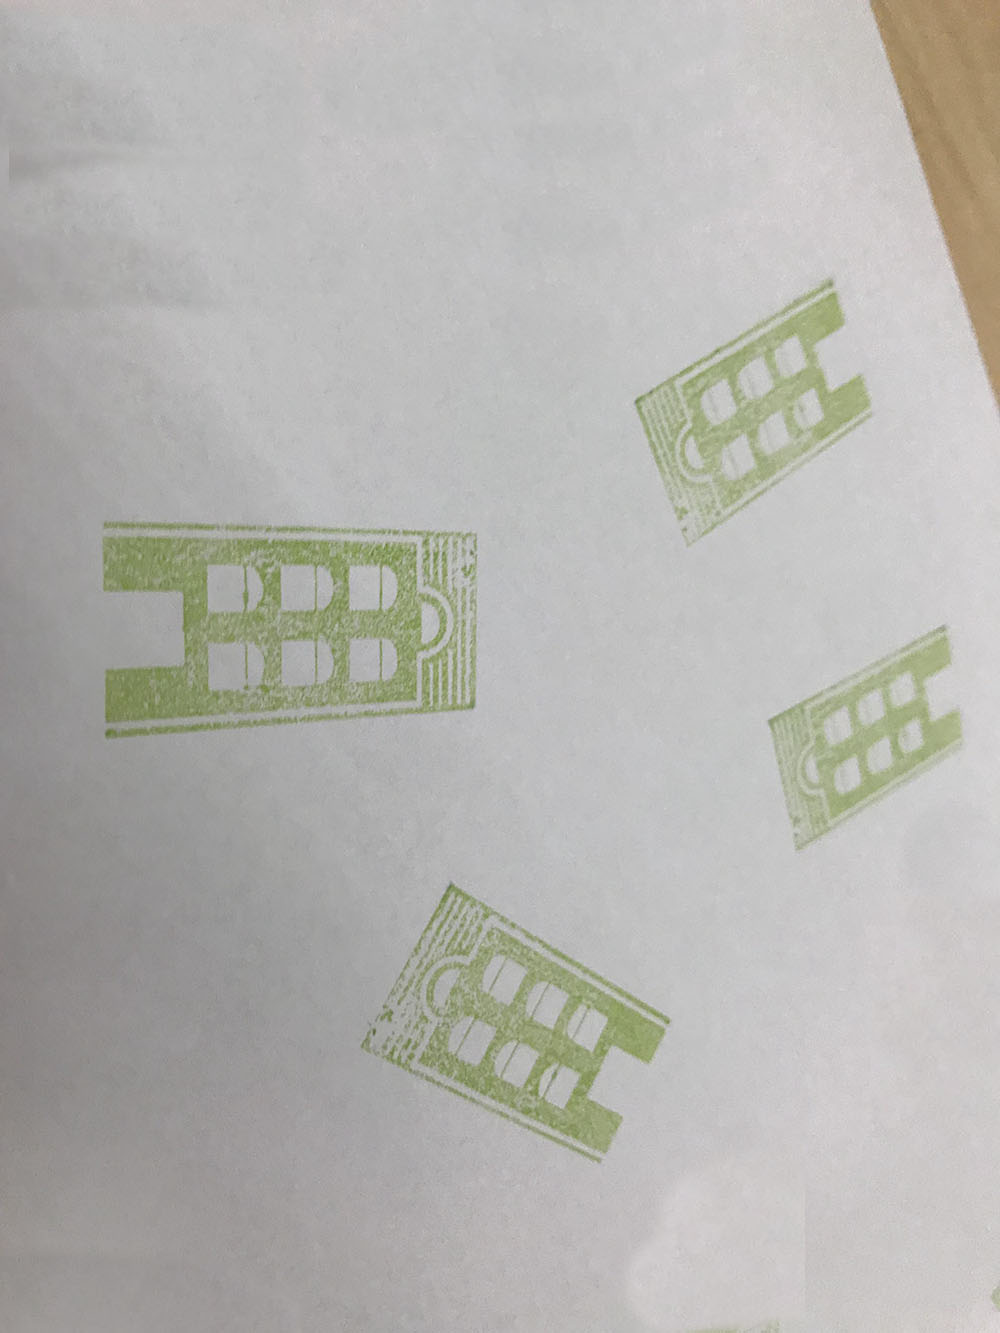build: (50, 483, 529, 772), (304, 863, 700, 1181), (602, 256, 902, 561), (745, 621, 977, 854)
